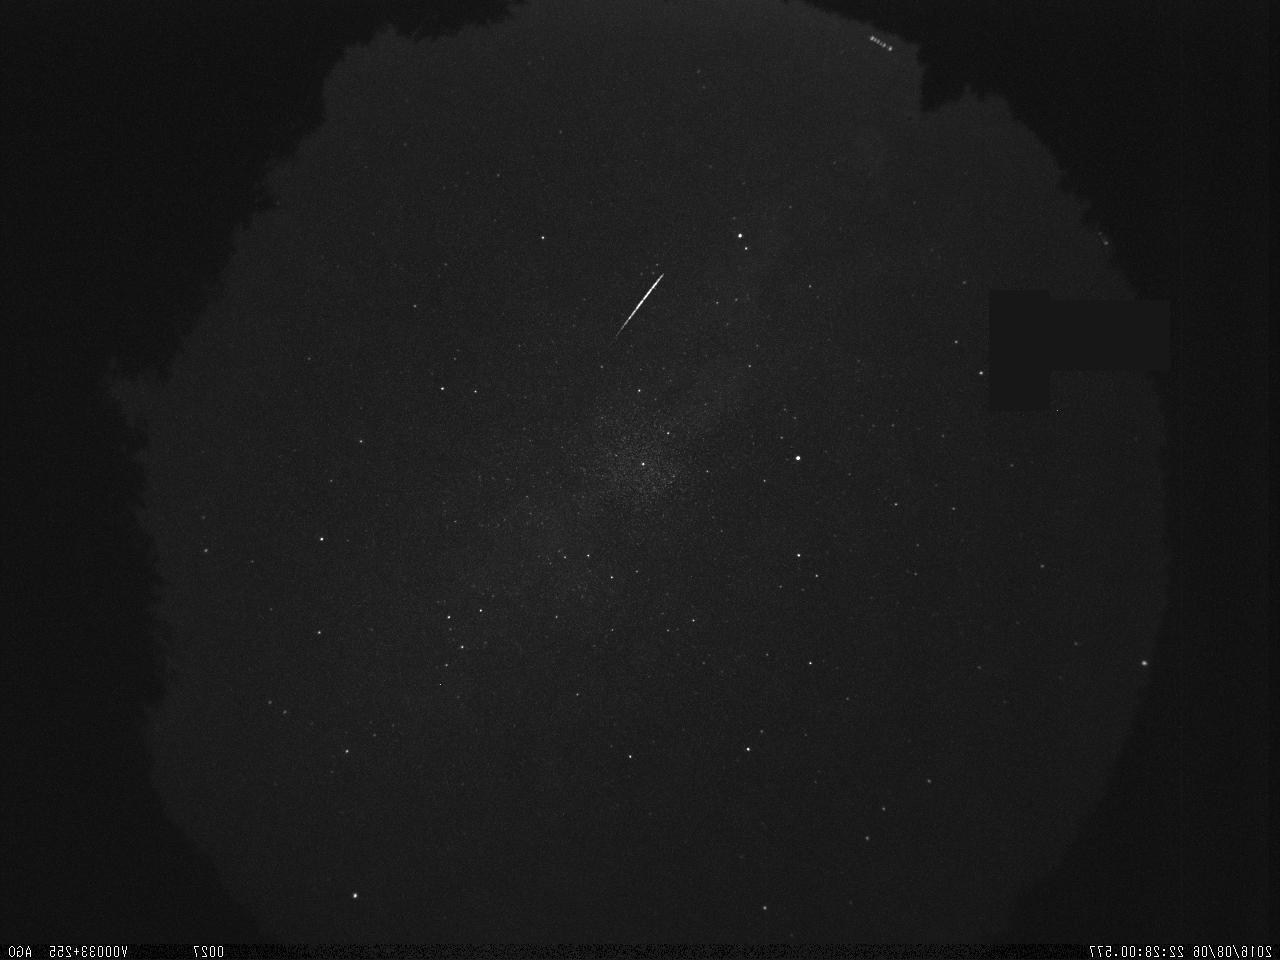meteor: (606, 261, 676, 344)
satelite: (867, 27, 899, 56)
